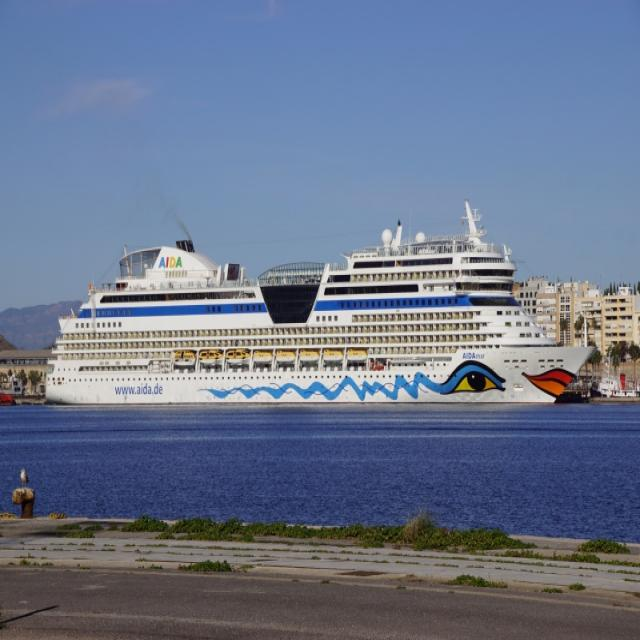cruises: (43, 199, 597, 414)
